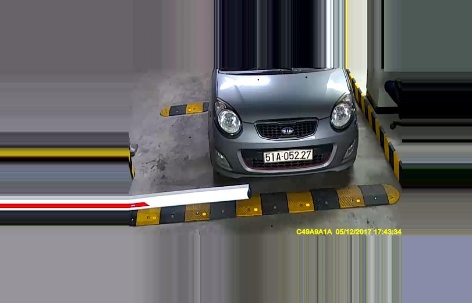plate: (258, 145, 315, 163)
